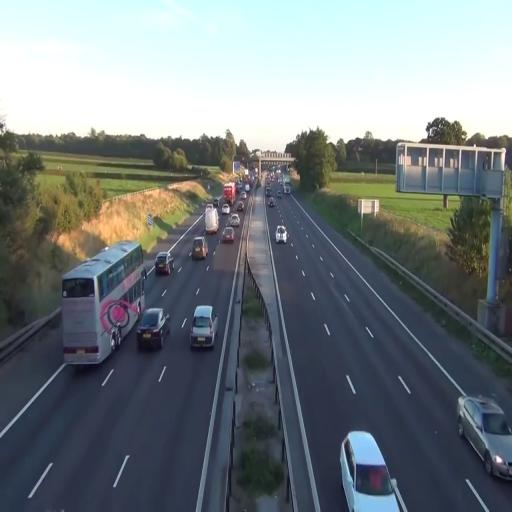vehicle: (61, 241, 146, 366), (340, 430, 408, 512), (456, 394, 512, 481), (136, 307, 170, 351), (189, 305, 217, 351), (155, 251, 174, 277), (191, 236, 208, 262), (220, 226, 236, 245), (275, 222, 288, 244)
